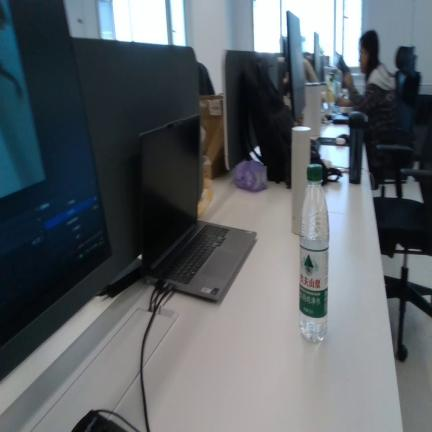bottle: (299, 164, 329, 343)
